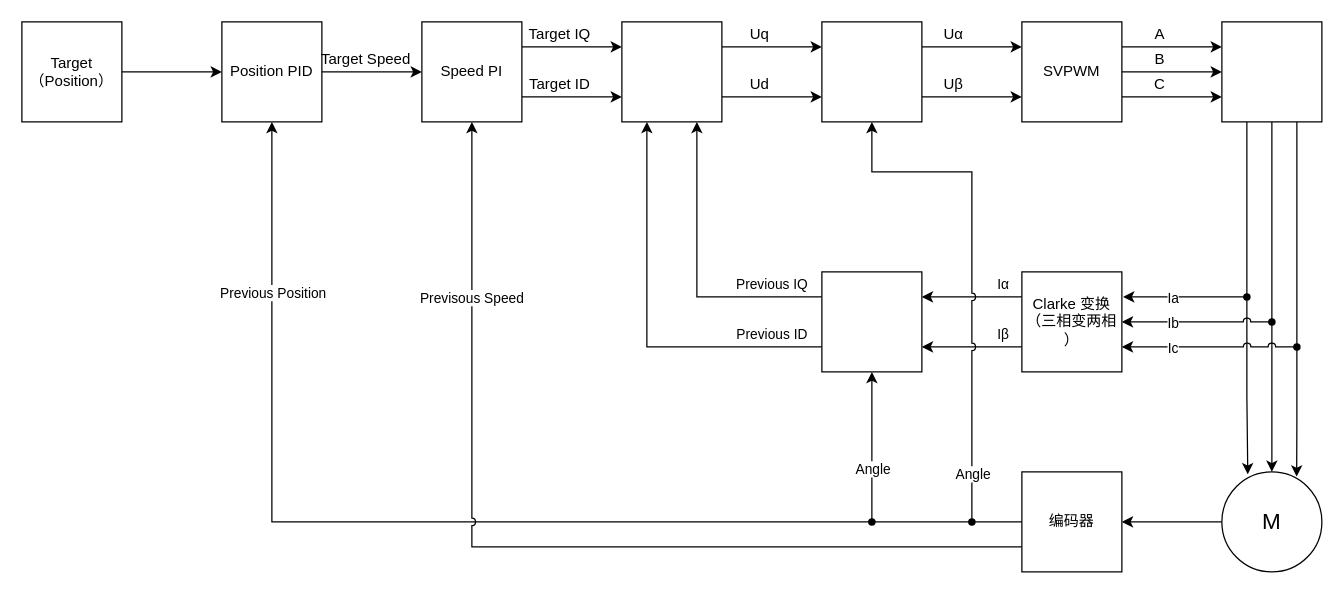
Image size: 1344x594. Some labels were removed from this diagram. The shapes that lost their labels are listed below. From the top down, each one's box as (x1, y1, x2, y2) in pixels, then its label:
(621, 21, 722, 122): 电流 PI
(821, 21, 922, 122): 反Park变换
(1221, 21, 1322, 122): MOS3相全桥电路
(821, 271, 922, 372): Park变换 （动态变静态）
